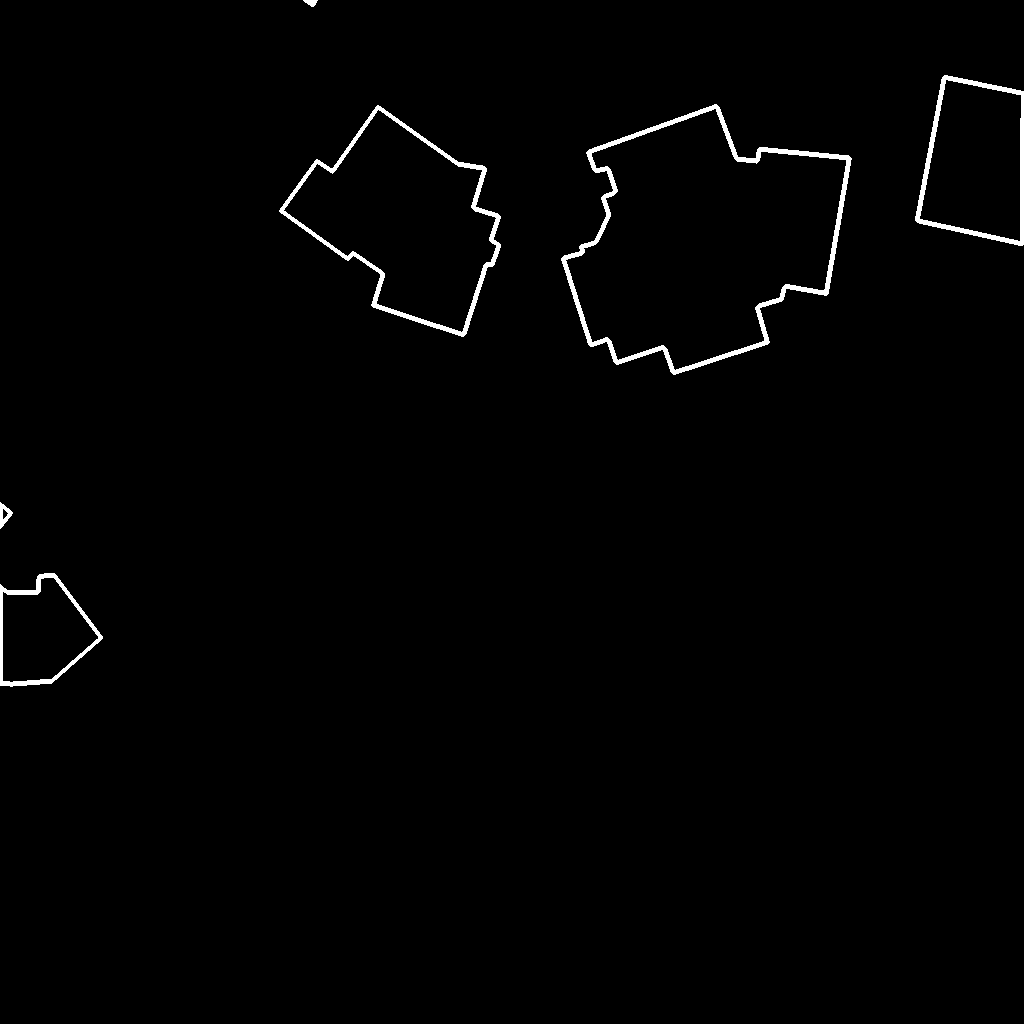building: (563, 106, 851, 374), (281, 107, 500, 336), (0, 504, 102, 685), (917, 77, 1024, 245), (305, 0, 317, 6)
